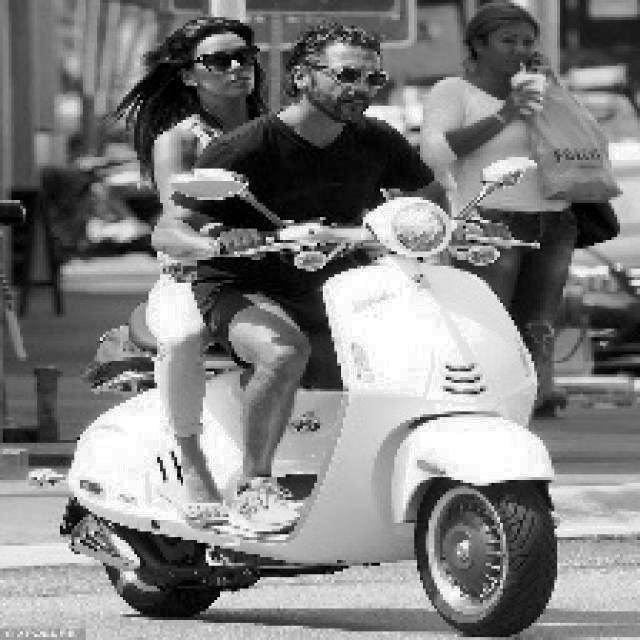Bike: (68, 214, 564, 640)
